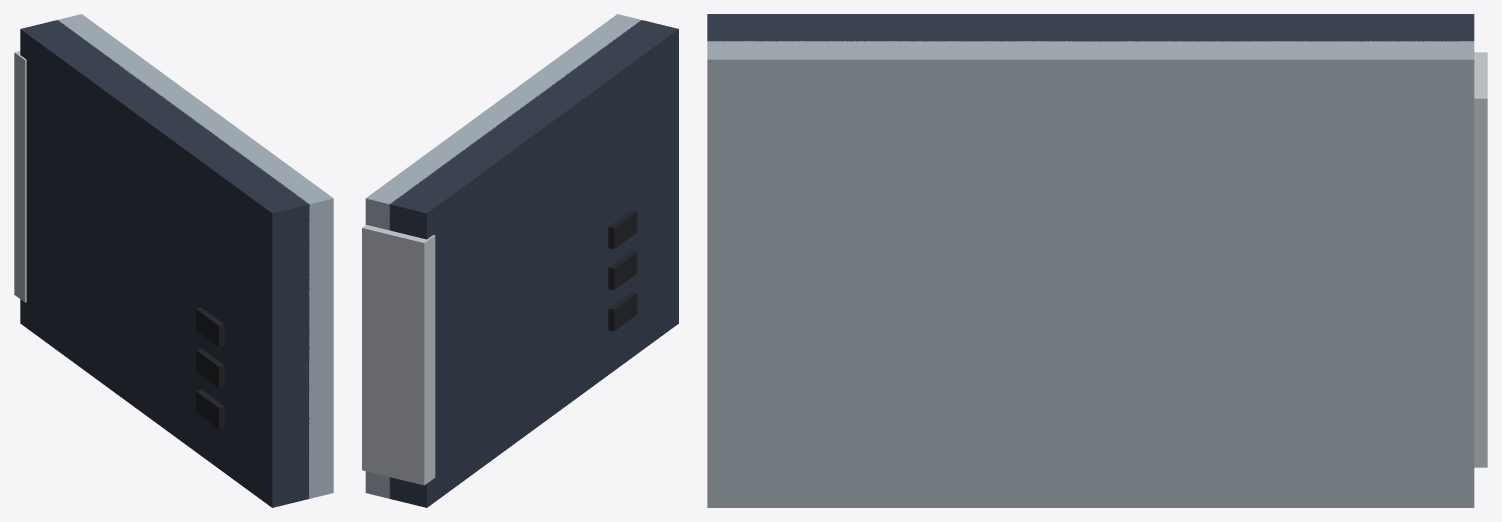
Rendered from notebook-illustrative-v1.glb.
3 renders of one model, left to right at view 1: azimuth 30°, elevation 25°; view 2: azimuth 150°, elevation 25°; view 3: azimuth 270°, elevation 25°, orthographic. The views are drawn at different scales.
Visible parts, largest first — view 1: bottom-shell, lid, hinge, port-0, port-1, port-2; view 2: bottom-shell, hinge, lid, port-0, port-1, port-2; view 3: lid, bottom-shell, hinge.
Part boxes in pixels (left/top/right/bottom): bottom-shell: left=20, top=20, right=309, bottom=507; lid: left=57, top=14, right=333, bottom=498; hinge: left=14, top=51, right=26, bottom=302; port-0: left=196, top=389, right=224, bottom=429; port-1: left=196, top=348, right=224, bottom=388; port-2: left=196, top=307, right=224, bottom=347; bottom-shell: left=389, top=20, right=678, bottom=507; hinge: left=362, top=225, right=435, bottom=485; lid: left=365, top=14, right=640, bottom=498; port-0: left=608, top=291, right=637, bottom=331; port-1: left=608, top=250, right=637, bottom=290; port-2: left=608, top=209, right=637, bottom=249; lid: left=707, top=41, right=1474, bottom=507; bottom-shell: left=707, top=14, right=1474, bottom=41; hinge: left=1474, top=52, right=1487, bottom=467.
Size of the model in its own units: 0.0755 by 0.316 by 0.4985.
